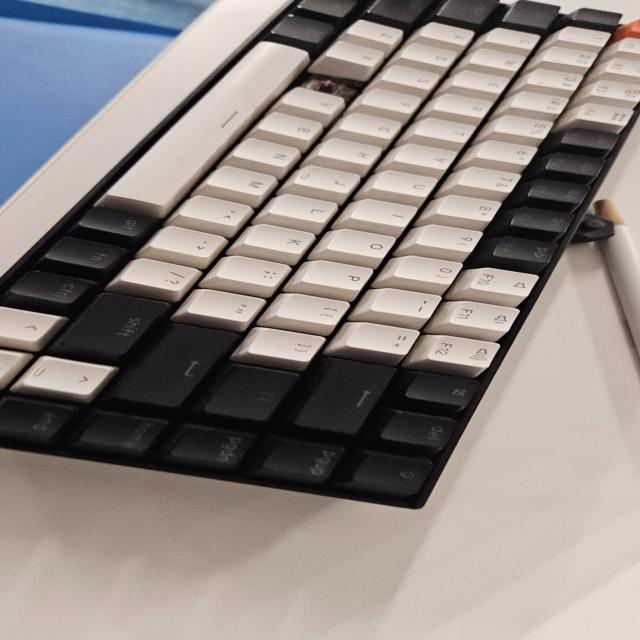C: (306, 70, 346, 94)
